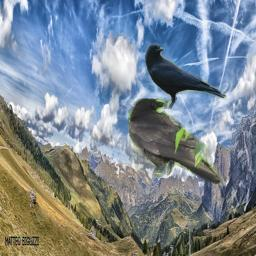Crow: (128, 98, 223, 184), (145, 42, 227, 109)
